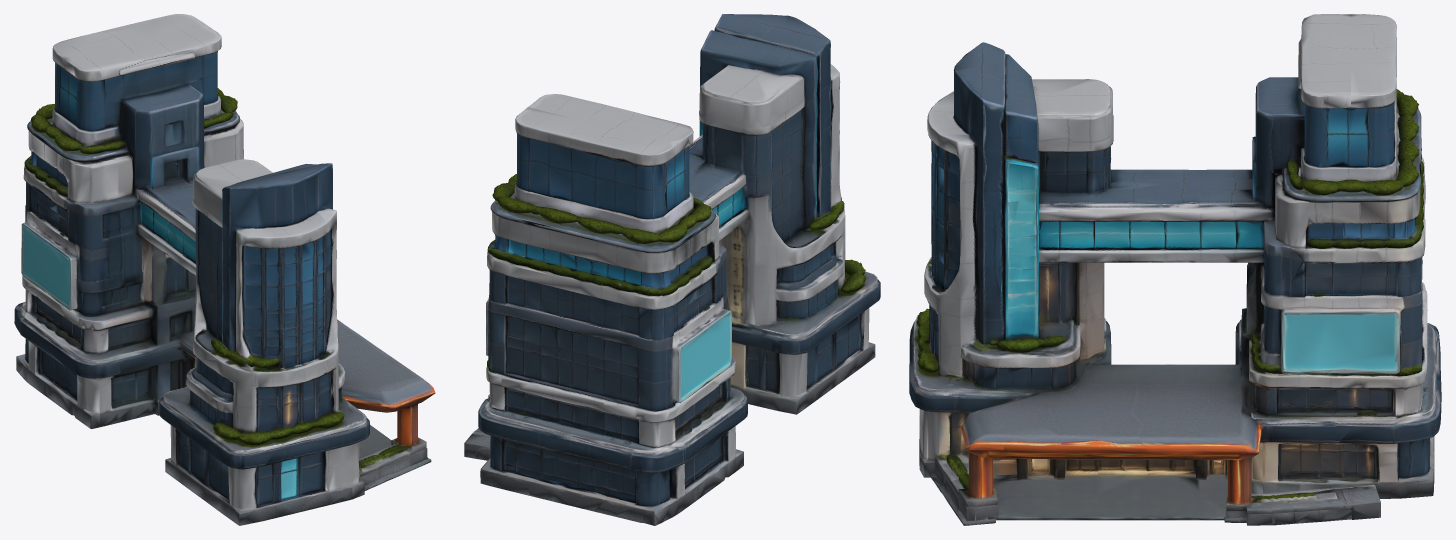
Rendered from level-4-web.glb.
3 renders of one model, left to right at view 1: azimuth 30°, elevation 25°; view 2: azimuth 150°, elevation 25°; view 3: azimuth 270°, elevation 25°, orthographic. The views are drawn at different scales.
Visible parts, largest first — view 1: tripo_node_f47280e8-8169-466e-a1cc-a0d643840b1c; view 2: tripo_node_f47280e8-8169-466e-a1cc-a0d643840b1c; view 3: tripo_node_f47280e8-8169-466e-a1cc-a0d643840b1c.
Boxes of the visible parts, x1,y1,x2,y2 form: tripo_node_f47280e8-8169-466e-a1cc-a0d643840b1c: (14, 14, 435, 525); tripo_node_f47280e8-8169-466e-a1cc-a0d643840b1c: (464, 14, 880, 525); tripo_node_f47280e8-8169-466e-a1cc-a0d643840b1c: (909, 14, 1441, 525).
Size of the model in its own units: 0.5948 by 0.8027 by 0.9805.
1 material, 1 textured.
